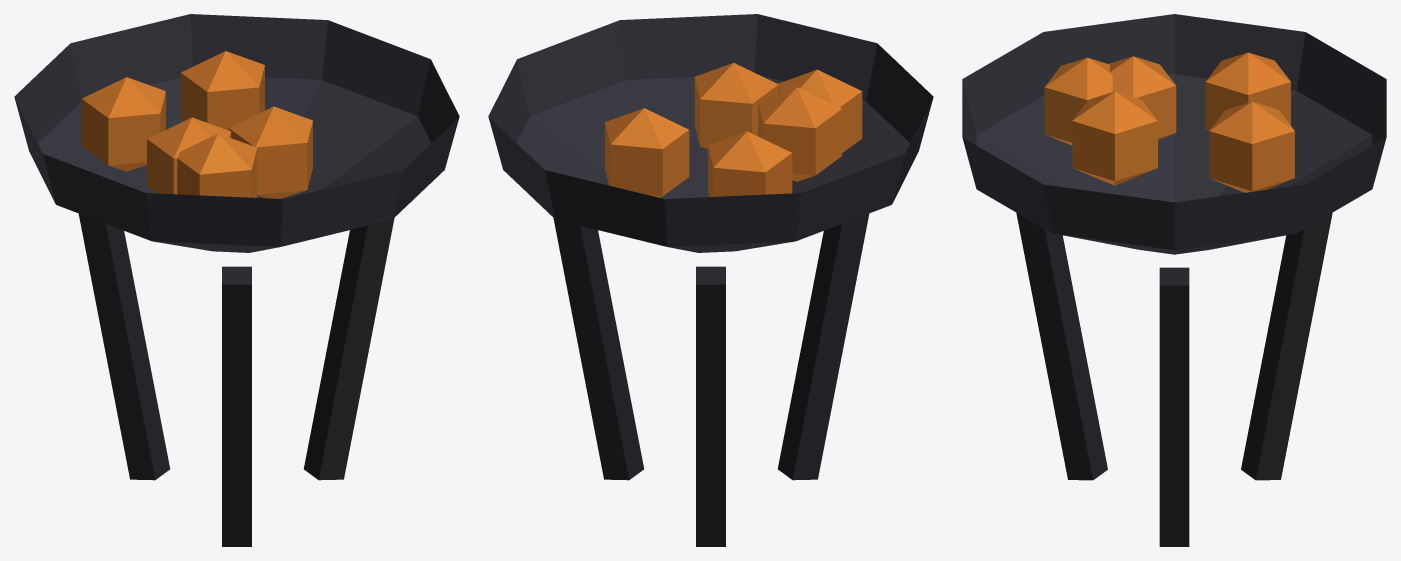
File: p_brazier.glb
3 renders of one model, left to right at view 1: azimuth 30°, elevation 25°; view 2: azimuth 150°, elevation 25°; view 3: azimuth 270°, elevation 25°, orthographic.
Visible parts, largest first — view 1: p_brazier; view 2: p_brazier; view 3: p_brazier.
Part boxes in pixels (x1,y1,x2,y2): p_brazier: (14, 14, 459, 546); p_brazier: (488, 14, 933, 546); p_brazier: (962, 14, 1386, 546).
Bounding box in the file's own units: 0.6 × 0.6094 × 0.5706.
